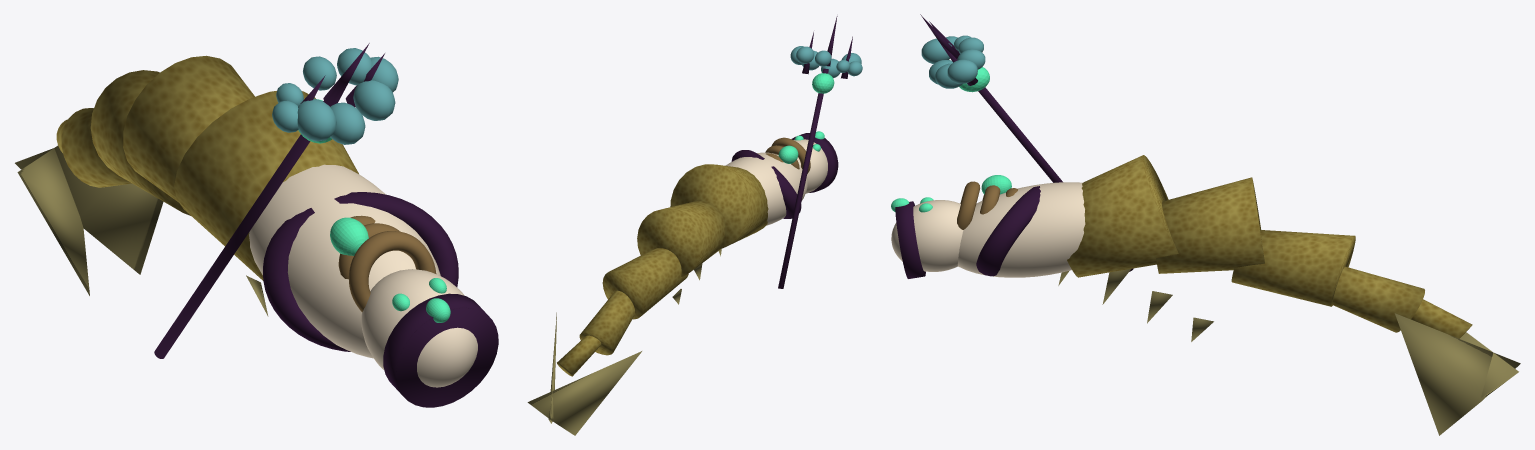
File: 01_adapa_var_deus_dourado_ataque_spin.obj
3 views of the same model, side by side, from view 1: azimuth 30°, elevation 25°; view 2: azimuth 150°, elevation 25°; view 3: azimuth 270°, elevation 25° (orthographic). The views are drawn at different scales.
Parts seen in each view (by area): view 1: Sphere, Cone, Cone.001, Cylinder, Sphere.002, Torus, Cone.005, Cone.002, Cone.006, Cylinder.001, Torus.001, Cone.003 (+12 smaller); view 2: Cone, Cone.001, Cone.002, Cone.006, Sphere, Cone.003, Cylinder.001, Cone.004, Sphere.002, Torus, Cylinder, Icosphere (+2 smaller); view 3: Cone, Cone.001, Sphere, Cone.005, Cone.002, Cone.003, Sphere.002, Torus, Cylinder, Cone.004, Cylinder.001, Cone.006 (+2 smaller).
Part boxes in pixels (x1,y1,x2,y2): Sphere: (249,164,440,358); Cone: (174,91,358,280); Cone.001: (123,55,254,202); Cylinder: (383,293,498,407); Sphere.002: (361,269,477,387); Torus: (263,192,458,351); Cone.005: (15,146,163,274); Cone.002: (90,70,190,215); Cone.006: (17,145,89,295); Cylinder.001: (154,101,324,358); Torus.001: (348,231,436,312); Cone.003: (61,108,131,187); Cone: (670,164,768,249); Cone.001: (637,201,725,276); Cone.002: (602,248,688,319); Cone.006: (527,351,641,435); Sphere: (725,152,807,225); Cone.003: (579,290,634,355); Cylinder.001: (778,68,828,288); Cone.004: (557,335,601,376); Sphere.002: (793,139,827,193); Torus: (731,150,801,218); Cylinder: (791,133,838,192); Icosphere: (812,73,834,93); Cone: (1067,155,1178,277); Cone.001: (1156,177,1264,273); Sphere: (957,182,1085,277); Cone.005: (1394,313,1520,435); Cone.002: (1231,230,1355,306); Cone.003: (1332,266,1424,332); Sphere.002: (891,200,963,271); Torus: (976,186,1040,276); Cylinder: (895,201,925,278); Cone.004: (1411,299,1472,338); Cylinder.001: (978,87,1133,271); Cone.006: (1460,332,1518,397).
Bounding box in the file's own units: 2.28 × 4.76 × 7.25.
Materials: 37 (37 with a texture image).
